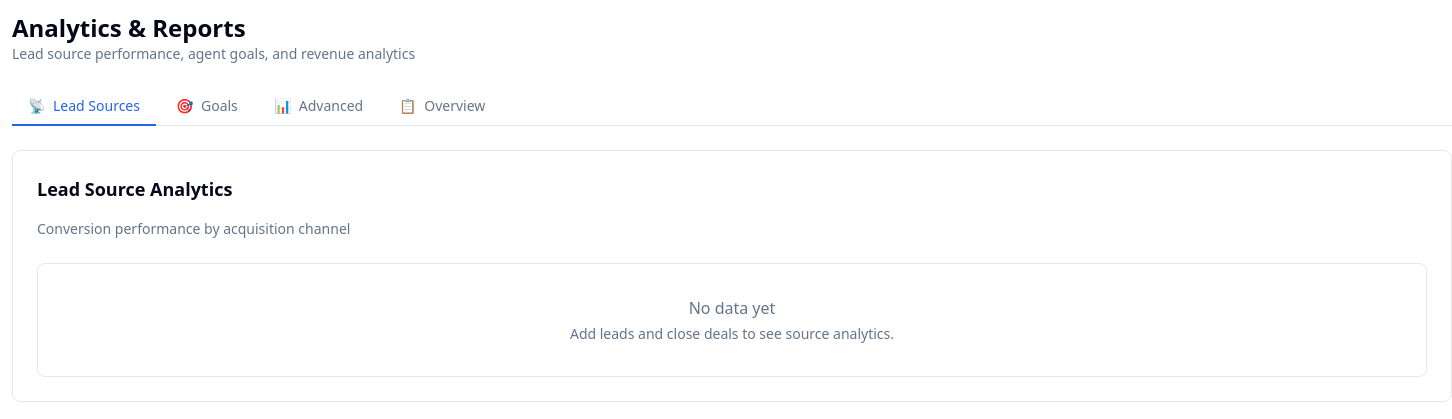
it: AnalyticsPage › shows overview tab content when active
Click the text "Overview".
click(455, 106)  # box 424,96 -> 485,116
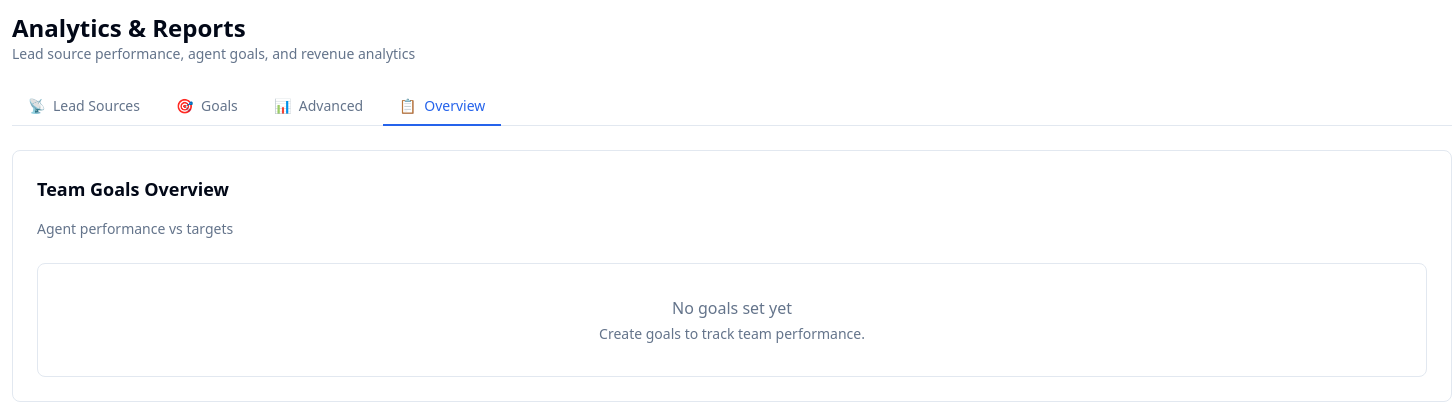
Expected: the heading "Team Goals Overview" is shown, 37,177 -> 229,201
